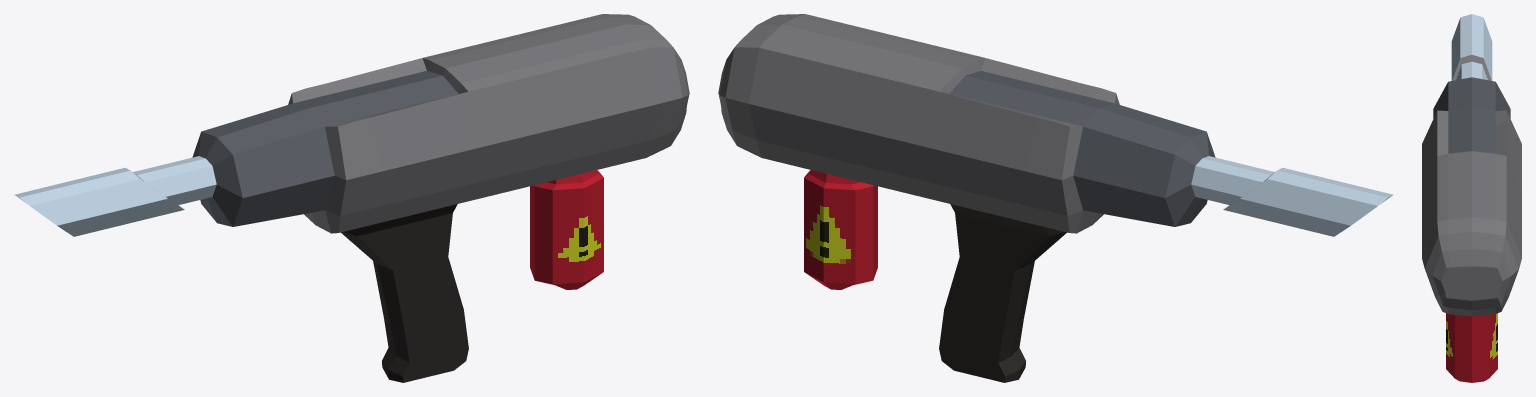
The model's file is blowtorch.glb.
The picture shows the model from 3 angles, left to right: view 1: azimuth 30°, elevation 25°; view 2: azimuth 150°, elevation 25°; view 3: azimuth 270°, elevation 25°; orthographic projection. The views are drawn at different scales.
Parts seen in each view (by area): view 1: Cube.001; view 2: Cube.001; view 3: Cube.001.
Boxes of the visible parts, x1=… form: Cube.001: x1=14, y1=14, x2=689, y2=382; Cube.001: x1=718, y1=14, x2=1393, y2=382; Cube.001: x1=1422, y1=14, x2=1521, y2=382.
Size of the model in its own units: 3.27 by 1.43 by 0.5811.
Materials: 1 (1 with a texture image).
